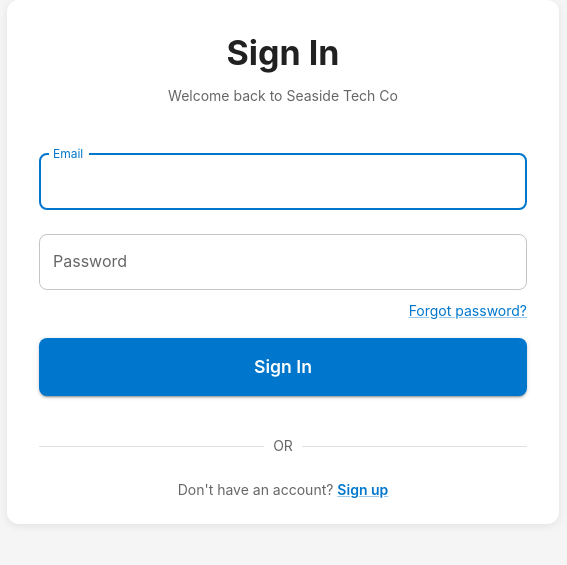
Test: Authentication › should show validation errors for empty login
Click the button "Sign In": (283, 368) [39,338,527,397]
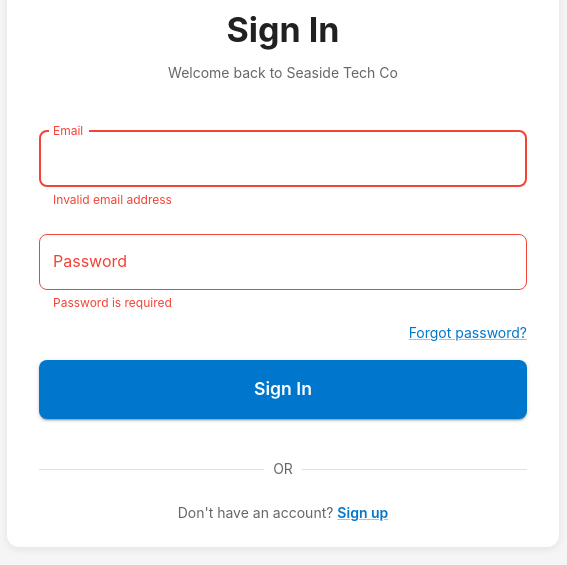
Check: the text "Invalid email address" is shown, box [53,192,172,207]
Check: the text "Password is required" is shown, box [53,294,172,310]
